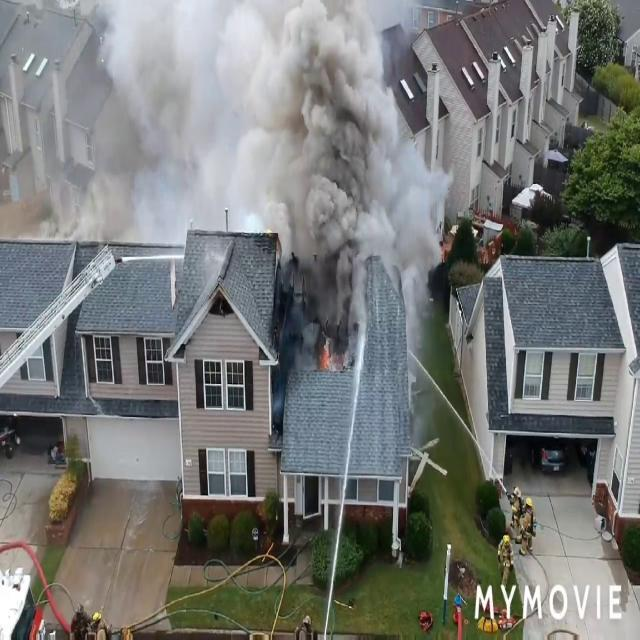Smoke: (78, 0, 428, 334)
